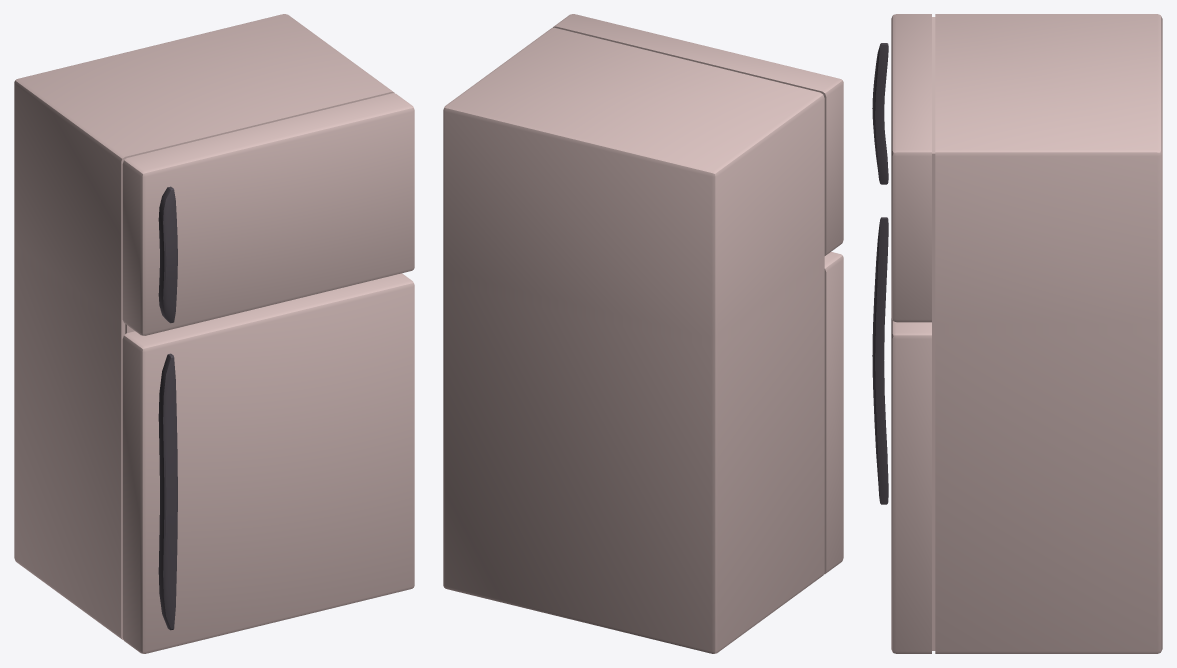
The model's file is refridgerator.fbx.
The picture shows the model from 3 angles, left to right: view 1: azimuth 30°, elevation 25°; view 2: azimuth 150°, elevation 25°; view 3: azimuth 270°, elevation 25°; orthographic projection. The views are drawn at different scales.
Parts seen in each view (by area): view 1: refridgerator; view 2: refridgerator; view 3: refridgerator.
Boxes of the visible parts, box(x1,y1,x2,y2) form: refridgerator: box(14, 14, 414, 653); refridgerator: box(443, 14, 843, 653); refridgerator: box(872, 14, 1162, 653).
Bounding box in the file's own units: 3.03 × 5.1 × 2.66.
